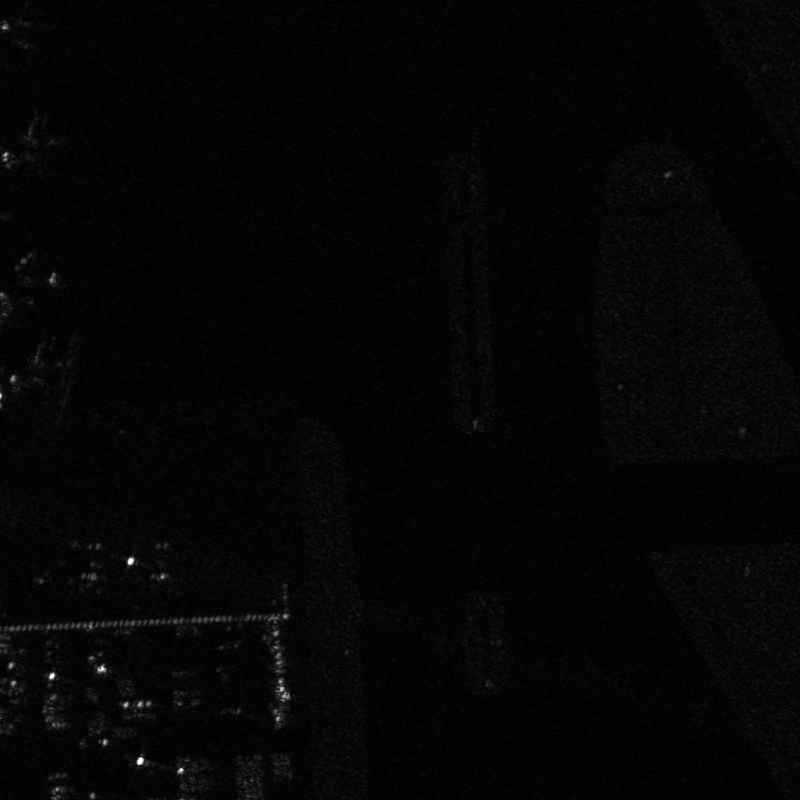A320/321: (1, 111, 70, 174)
ARJ21: (68, 532, 118, 595)
other: (3, 333, 85, 401), (134, 533, 194, 595)
